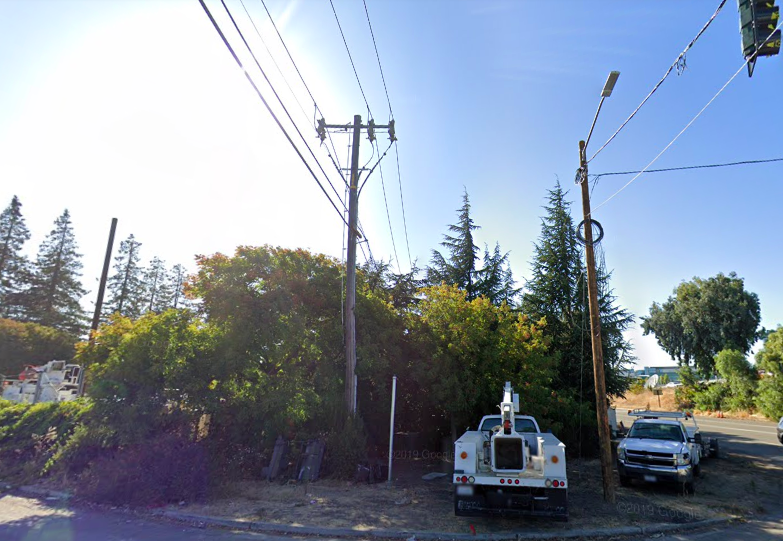utility_pole: (307, 97, 403, 194)
